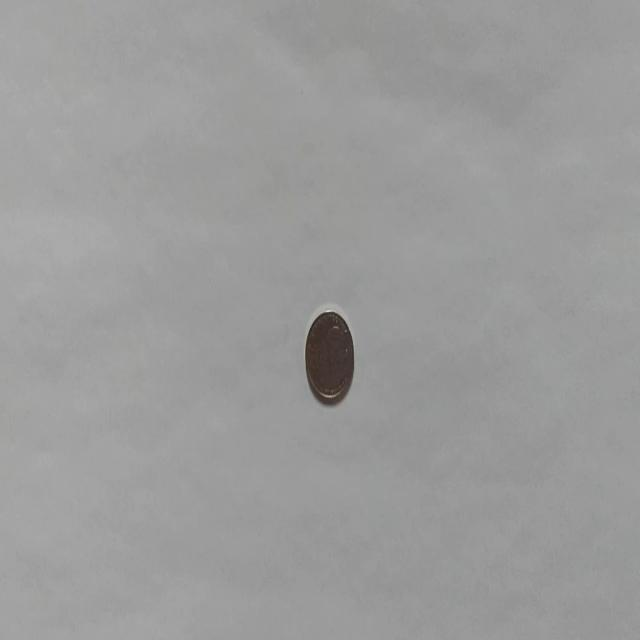seribu rupiah koin: (304, 306, 354, 406)
